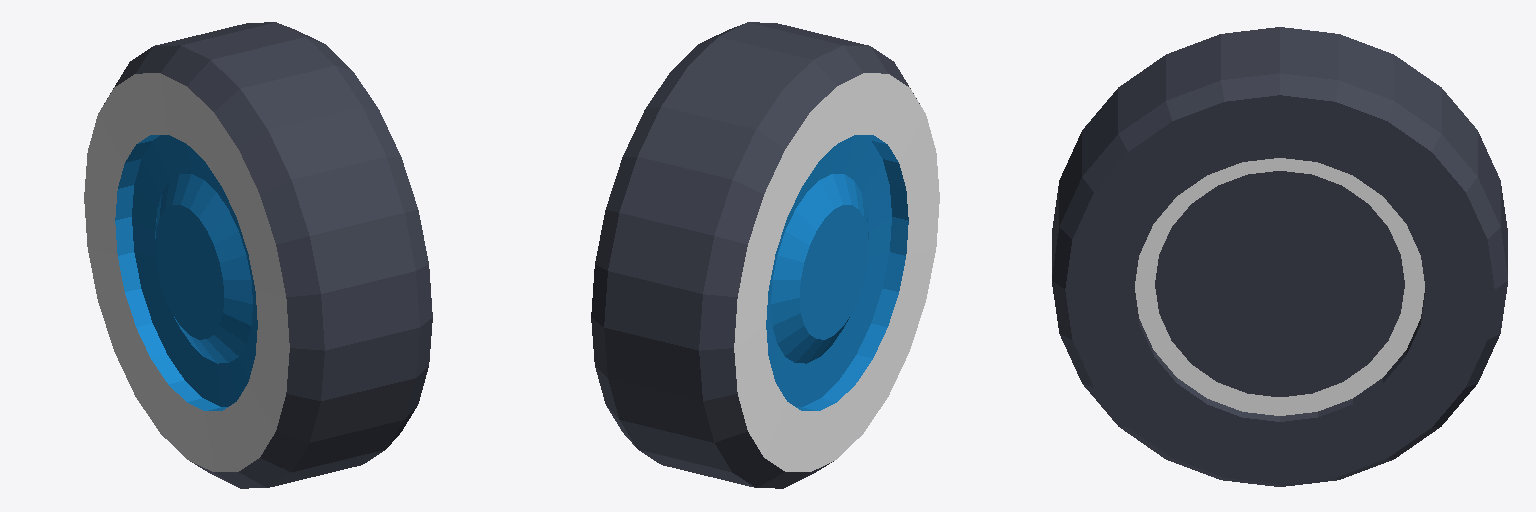
File: AF_Wheel.obj
The picture shows the model from 3 angles: view 1: azimuth 30°, elevation 25°; view 2: azimuth 150°, elevation 25°; view 3: azimuth 270°, elevation 25°; orthographic projection.
Size of the model in its own units: 0.2163 by 0.6161 by 0.6161.